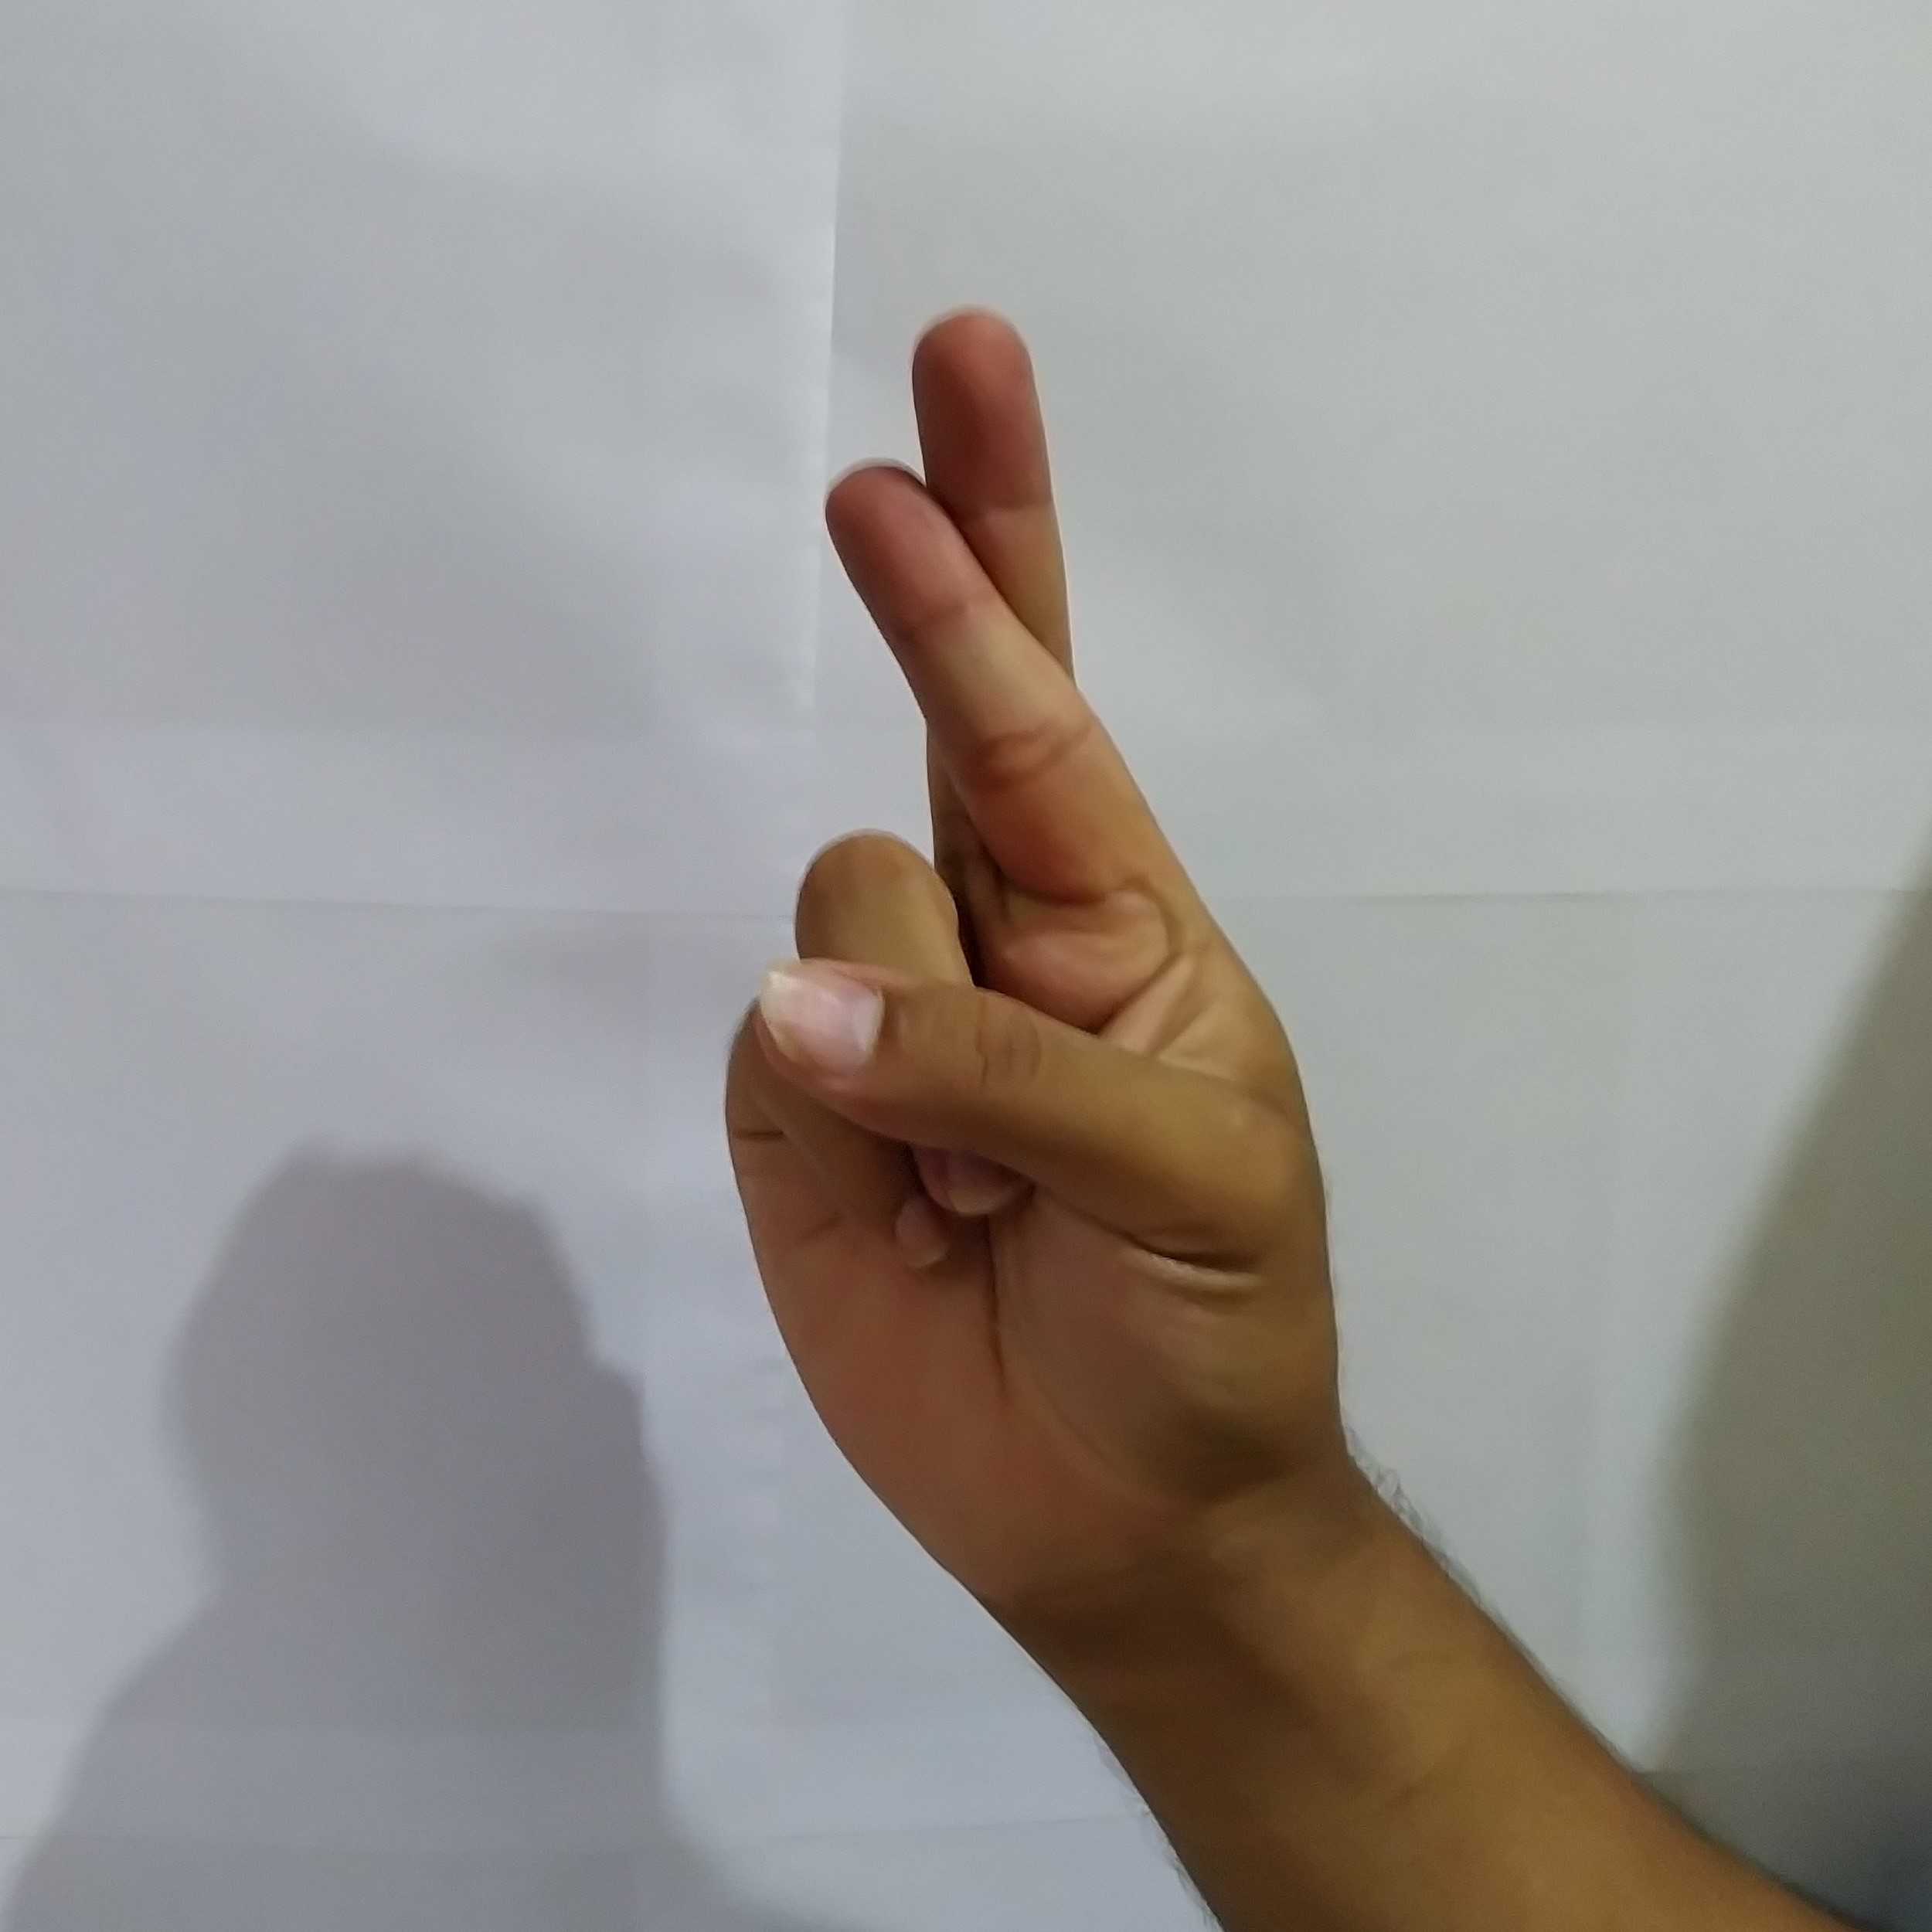R: (685, 278, 1407, 1534)
